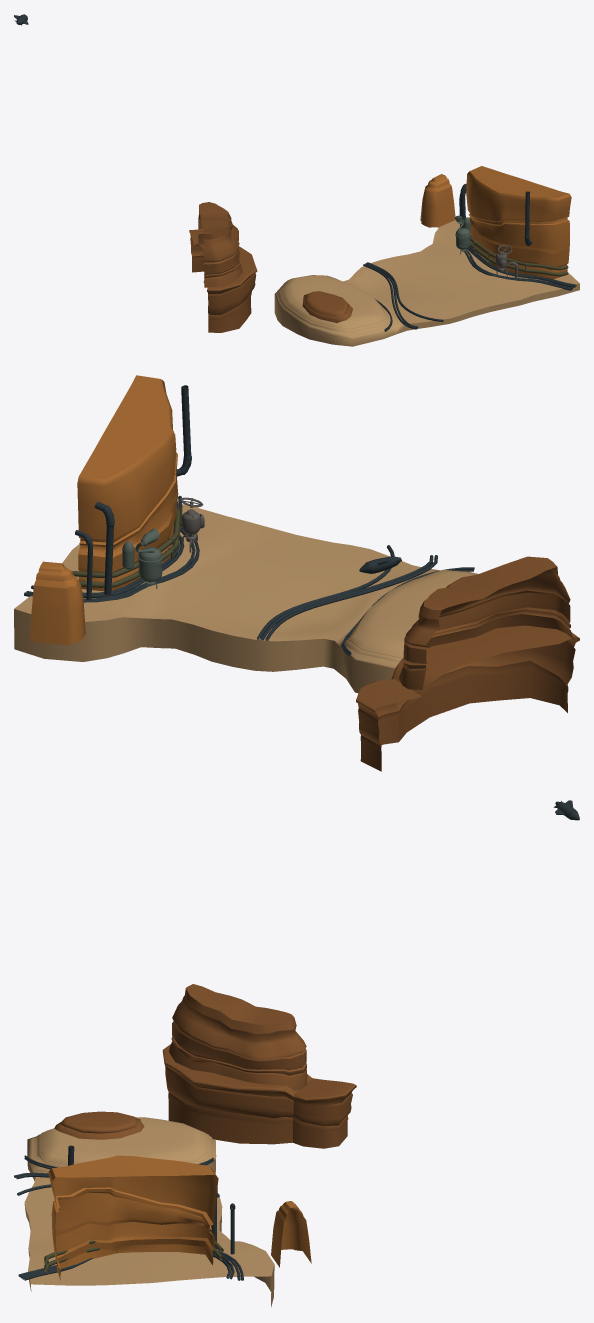
Rendered from ForeGround Full.fbx.
3 renders of one model, top to bottom at view 1: azimuth 30°, elevation 25°; view 2: azimuth 150°, elevation 25°; view 3: azimuth 270°, elevation 25°, orthographic. The views are drawn at different scales.
Parts seen in each view (by area): view 1: Ground, RightWall, LftMtnTier_02, LftMtnTier_01, MntSeparation, SecondTierGrnd, SteamPipesRoundRght, RghtWireBundle_01, RghtWireBundle_02, RghtWireBundleGrnd; view 2: Ground, LftMtnTier_02, RightWall, LftMtnTier_01, MntSeparation, RghtWireBundleGrnd, SteamPipesRoundRght, RghtWireBundle_01, RightUpPipe_01, FrntPipe, RghtWireBundle_02, RgtWireBundleGrnd_02; view 3: RightWall, Ground, LftMtnTier_02, LftMtnTier_01, SecondTierGrnd, MntSeparation.
Part boxes in pixels (box(x1,y1,x2,y2)): Ground: box(274, 217, 579, 346); RightWall: box(466, 166, 571, 279); LftMtnTier_02: box(189, 229, 257, 332); LftMtnTier_01: box(198, 202, 242, 287); MntSeparation: box(420, 174, 455, 227); SecondTierGrnd: box(302, 291, 352, 322); SteamPipesRoundRght: box(470, 236, 568, 276); RghtWireBundle_01: box(464, 249, 572, 290); RghtWireBundle_02: box(467, 246, 576, 287); RghtWireBundleGrnd: box(363, 263, 418, 329); Ground: box(14, 503, 477, 692); LftMtnTier_02: box(356, 625, 579, 771); RightWall: box(77, 375, 178, 591); LftMtnTier_01: box(399, 556, 573, 689); MntSeparation: box(29, 561, 85, 645); RghtWireBundleGrnd: box(261, 555, 437, 640); SteamPipesRoundRght: box(72, 507, 182, 587); RghtWireBundle_01: box(24, 496, 199, 602); RightUpPipe_01: box(94, 502, 114, 595); FrntPipe: box(176, 385, 191, 476); RghtWireBundle_02: box(31, 534, 184, 597); RgtWireBundleGrnd_02: box(257, 545, 394, 640); RightWall: box(48, 1155, 218, 1280); Ground: box(24, 1117, 274, 1307); LftMtnTier_02: box(162, 1044, 356, 1148); LftMtnTier_01: box(169, 984, 307, 1090); SecondTierGrnd: box(54, 1111, 144, 1139); MntSeparation: box(271, 1201, 311, 1267).
Bounding box in the file's own units: 850 × 503 × 890.
